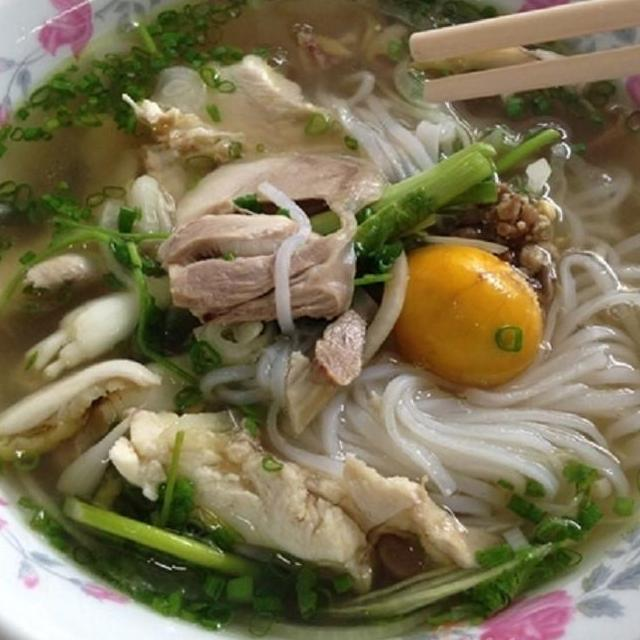banh pho: (181, 314, 640, 536), (517, 136, 640, 376), (312, 52, 482, 190)
pho ga: (0, 0, 640, 640)
thit ga: (101, 396, 512, 596), (104, 46, 392, 225), (148, 202, 368, 331)
trung: (382, 236, 552, 398)
